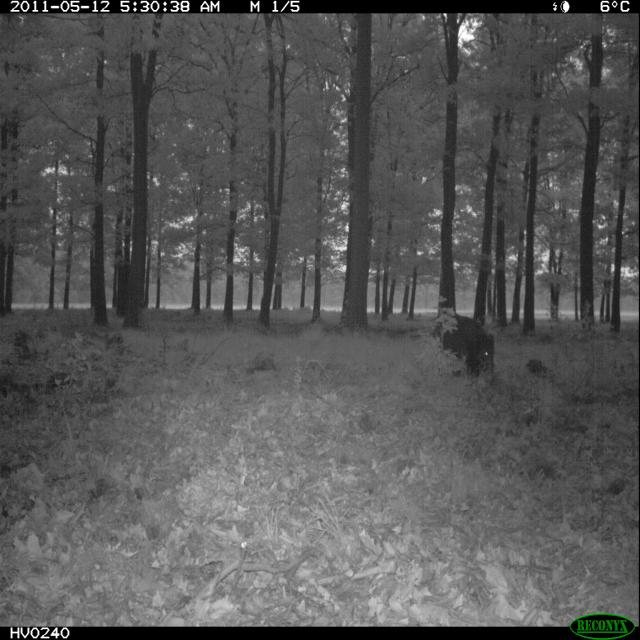boar: (439, 307, 506, 393)
